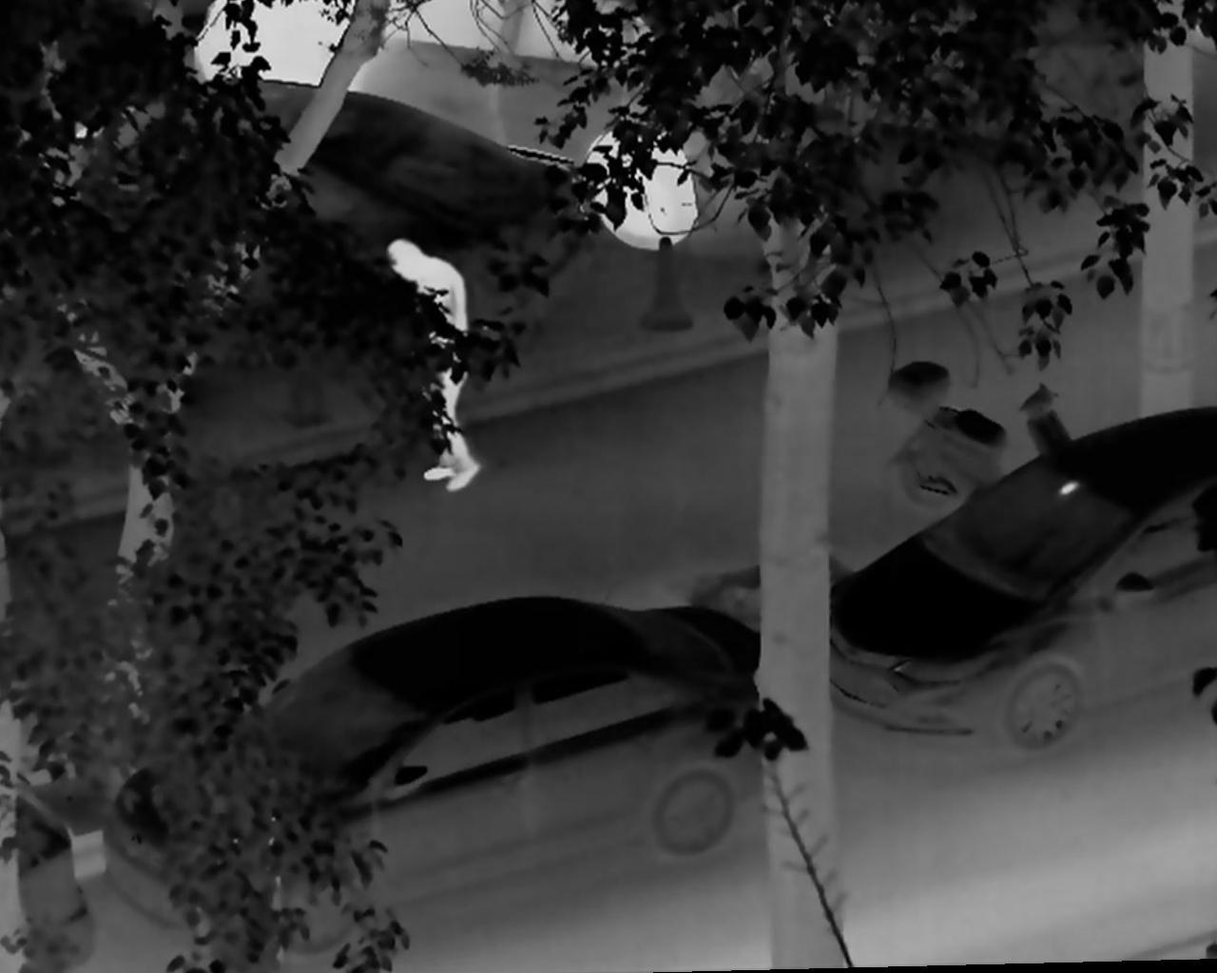person: (385, 232, 485, 498)
